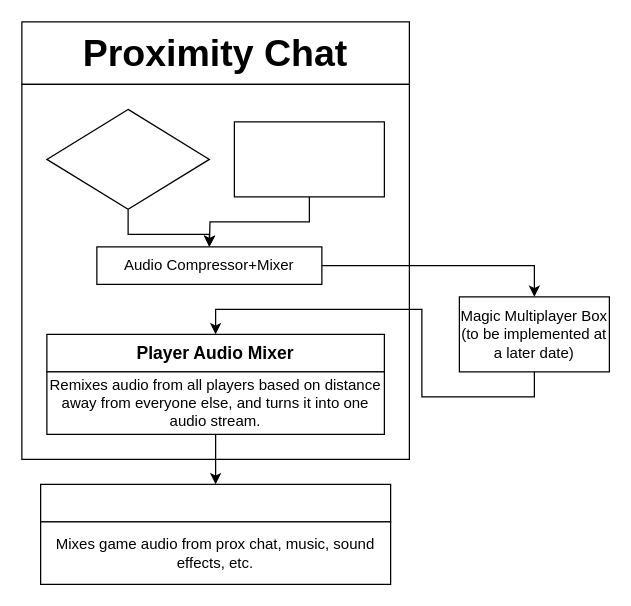
The diagram is 631 pixels wide and 606 high, and some of its shapes have lost their labels. Each missing label, with the centre of its shape:
General Audio Mixer: the point at 215,502
Player Microphone Input: the point at 127,158
User Microphone and Audio Settings: the point at 308,159
